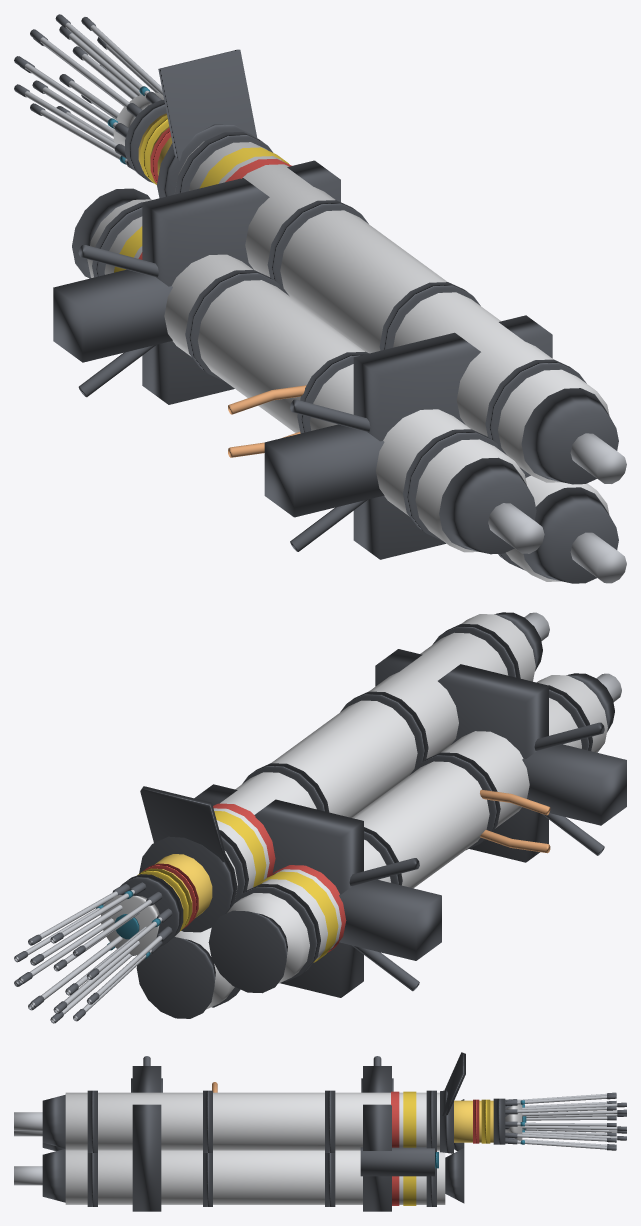
The model's file is mod_excalibur_xray_launcher.glb.
3 renders of one model, top to bottom at view 1: azimuth 30°, elevation 25°; view 2: azimuth 150°, elevation 25°; view 3: azimuth 270°, elevation 25°, orthographic. The views are drawn at different scales.
Parts seen in each view (by area): view 1: ExcaliburPod_Armor_Pylon_Caps, ExcaliburPod_Launch_Tubes, Excalibur_16x_Tungsten_LasingRods, ExcaliburPod_Pneumatic_Bottles, Excalibur_Tungsten_Shields_Collars, ExcaliburPod_Hazard_Yellow, ExcaliburPod_Arming_Umbilicals; view 2: ExcaliburPod_Armor_Pylon_Caps, ExcaliburPod_Launch_Tubes, Excalibur_16x_Tungsten_LasingRods, Excalibur_Tungsten_Shields_Collars, ExcaliburPod_Hazard_Yellow, ExcaliburPod_Hazard_Red, ExcaliburPod_Arming_Umbilicals, Excalibur_Probe_Bus, Excalibur_Core_Gold_MLI, ExcaliburPod_Pneumatic_Bottles, Excalibur_Nuclear_Hazard_Yellow, Excalibur_Nuclear_Hazard_Red; view 3: ExcaliburPod_Launch_Tubes, ExcaliburPod_Armor_Pylon_Caps, Excalibur_16x_Tungsten_LasingRods, Excalibur_Tungsten_Shields_Collars, ExcaliburPod_Pneumatic_Bottles, ExcaliburPod_Hazard_Yellow, Excalibur_Core_Gold_MLI, ExcaliburPod_Hazard_Red, Excalibur_Nuclear_Hazard_Yellow, Excalibur_Probe_Bus, Excalibur_Nuclear_Hazard_Red.
Boxes of the visible parts, <box> form: ExcaliburPod_Armor_Pylon_Caps: <box>53,49,618,583</box>; ExcaliburPod_Launch_Tubes: <box>87,141,609,581</box>; Excalibur_16x_Tungsten_LasingRods: <box>24,22,163,163</box>; ExcaliburPod_Pneumatic_Bottles: <box>488,433,626,583</box>; Excalibur_Tungsten_Shields_Collars: <box>14,14,166,183</box>; ExcaliburPod_Hazard_Yellow: <box>114,147,289,272</box>; ExcaliburPod_Arming_Umbilicals: <box>228,385,306,457</box>; ExcaliburPod_Armor_Pylon_Caps: <box>136,612,626,1018</box>; ExcaliburPod_Launch_Tubes: <box>175,614,607,1009</box>; Excalibur_16x_Tungsten_LasingRods: <box>15,890,162,1022</box>; Excalibur_Tungsten_Shields_Collars: <box>14,874,183,1023</box>; ExcaliburPod_Hazard_Yellow: <box>214,811,338,962</box>; ExcaliburPod_Hazard_Red: <box>213,803,346,952</box>; ExcaliburPod_Arming_Umbilicals: <box>480,789,550,853</box>; Excalibur_Probe_Bus: <box>101,895,159,954</box>; Excalibur_Core_Gold_MLI: <box>155,854,212,917</box>; ExcaliburPod_Pneumatic_Bottles: <box>524,612,621,702</box>; Excalibur_Nuclear_Hazard_Yellow: <box>137,868,191,930</box>; Excalibur_Nuclear_Hazard_Red: <box>143,863,198,928</box>; ExcaliburPod_Launch_Tubes: <box>65,1092,445,1204</box>; ExcaliburPod_Armor_Pylon_Caps: <box>42,1052,465,1211</box>; Excalibur_16x_Tungsten_LasingRods: <box>517,1093,626,1149</box>; Excalibur_Tungsten_Shields_Collars: <box>493,1092,626,1150</box>; ExcaliburPod_Pneumatic_Bottles: <box>14,1112,42,1185</box>; ExcaliburPod_Hazard_Yellow: <box>403,1091,416,1205</box>; Excalibur_Core_Gold_MLI: <box>454,1100,493,1142</box>; ExcaliburPod_Hazard_Red: <box>391,1091,399,1205</box>; Excalibur_Nuclear_Hazard_Yellow: <box>481,1099,490,1143</box>; Excalibur_Probe_Bus: <box>505,1104,522,1140</box>; Excalibur_Nuclear_Hazard_Red: <box>473,1099,479,1143</box>.
Bounding box in the file's own units: 5.06 × 4.6 × 18.08.
